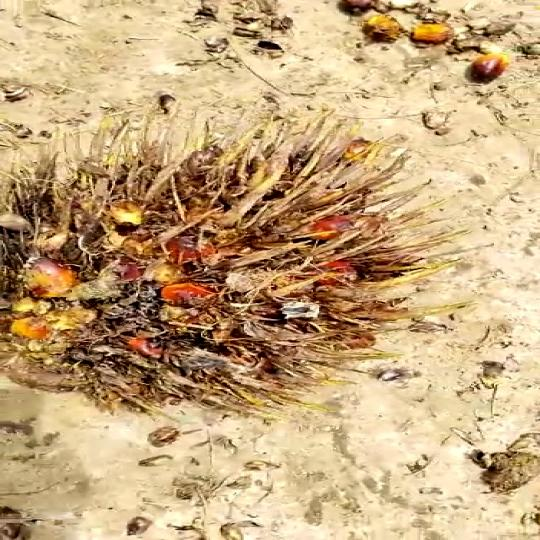terlalu masak: (0, 86, 433, 444)
